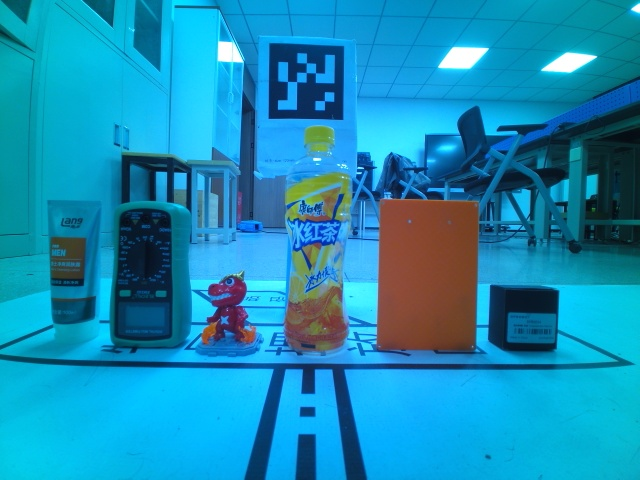banzi: (487, 283, 560, 352)
binghongcha: (197, 270, 265, 357)
dabao: (45, 198, 103, 344)
dianbiao: (285, 124, 351, 349)
hezi: (109, 201, 192, 350)
long: (376, 197, 478, 354)
